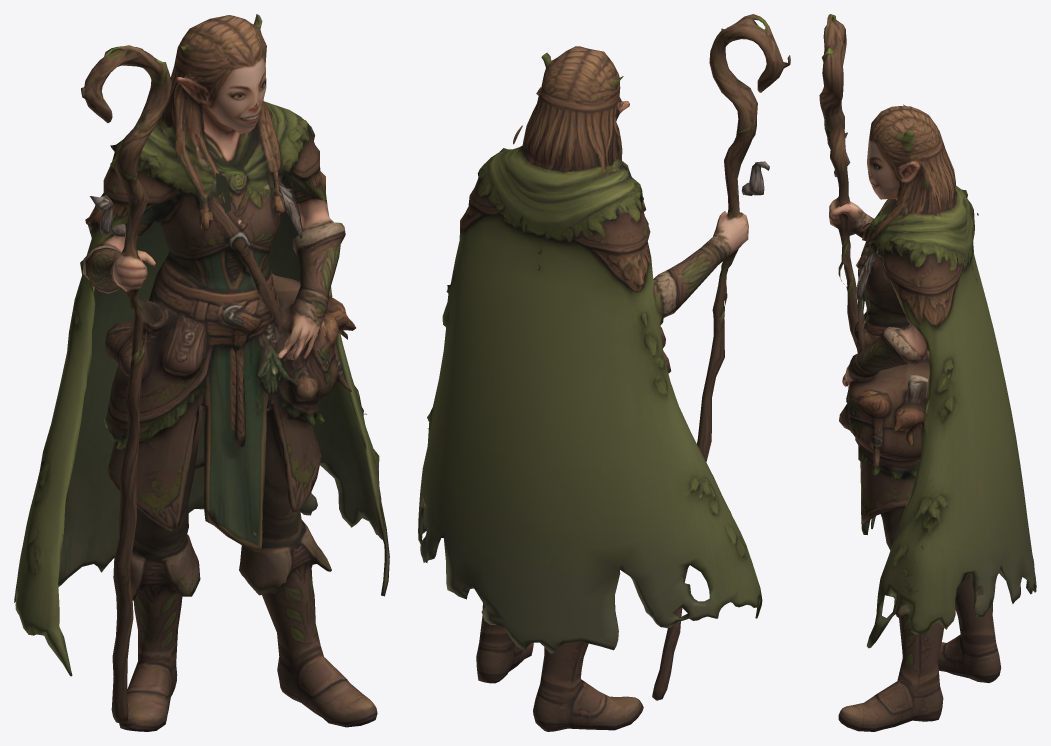
Rendered from Druida.glb.
3 views of the same model, side by side, from view 1: azimuth 30°, elevation 25°; view 2: azimuth 150°, elevation 25°; view 3: azimuth 270°, elevation 25° (orthographic). The views are drawn at different scales.
Visible parts, largest first — view 1: tripo_node_a3a6aefc-09d6-4afe-a32d-d0b228beaf65; view 2: tripo_node_a3a6aefc-09d6-4afe-a32d-d0b228beaf65; view 3: tripo_node_a3a6aefc-09d6-4afe-a32d-d0b228beaf65.
Boxes of the visible parts, x1,y1,x2,y2 form: tripo_node_a3a6aefc-09d6-4afe-a32d-d0b228beaf65: (14,14,389,731); tripo_node_a3a6aefc-09d6-4afe-a32d-d0b228beaf65: (418,14,790,731); tripo_node_a3a6aefc-09d6-4afe-a32d-d0b228beaf65: (819,14,1036,731).
Size of the model in its own units: 0.4961 by 0.9823 by 0.3157.
1 material, 1 textured.
